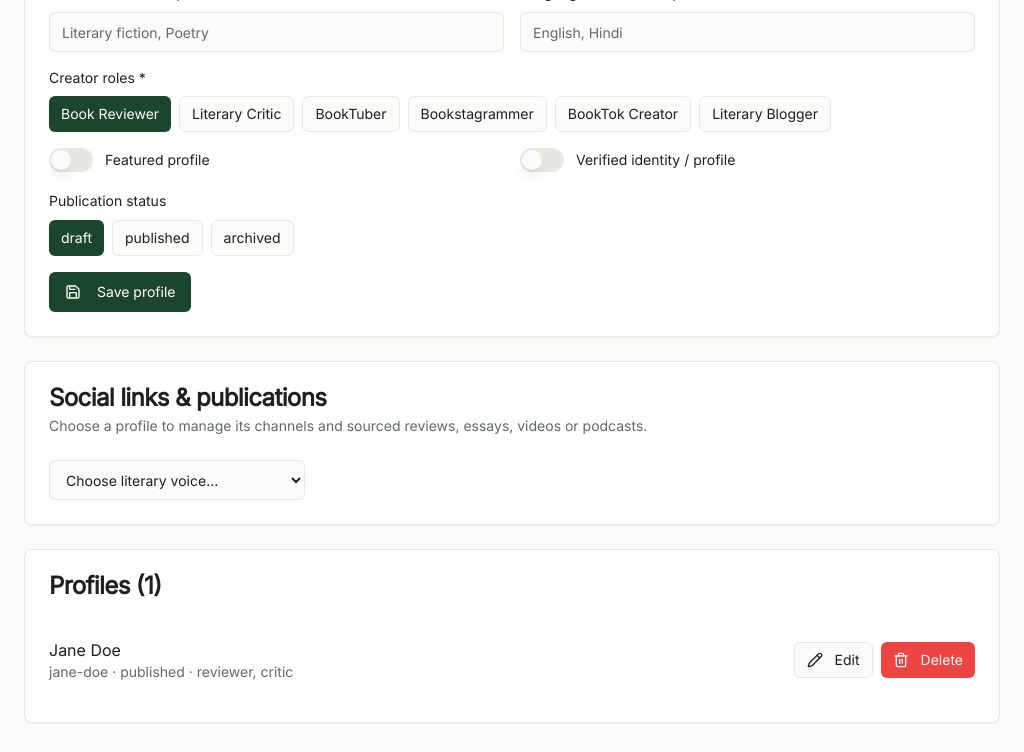
Test: AdminLiteraryCreators › populates creator profile into form for editing
(page scrolled)
Click the button "Edit".
click(833, 660)  # box [794,642,873,678]
(page scrolled)
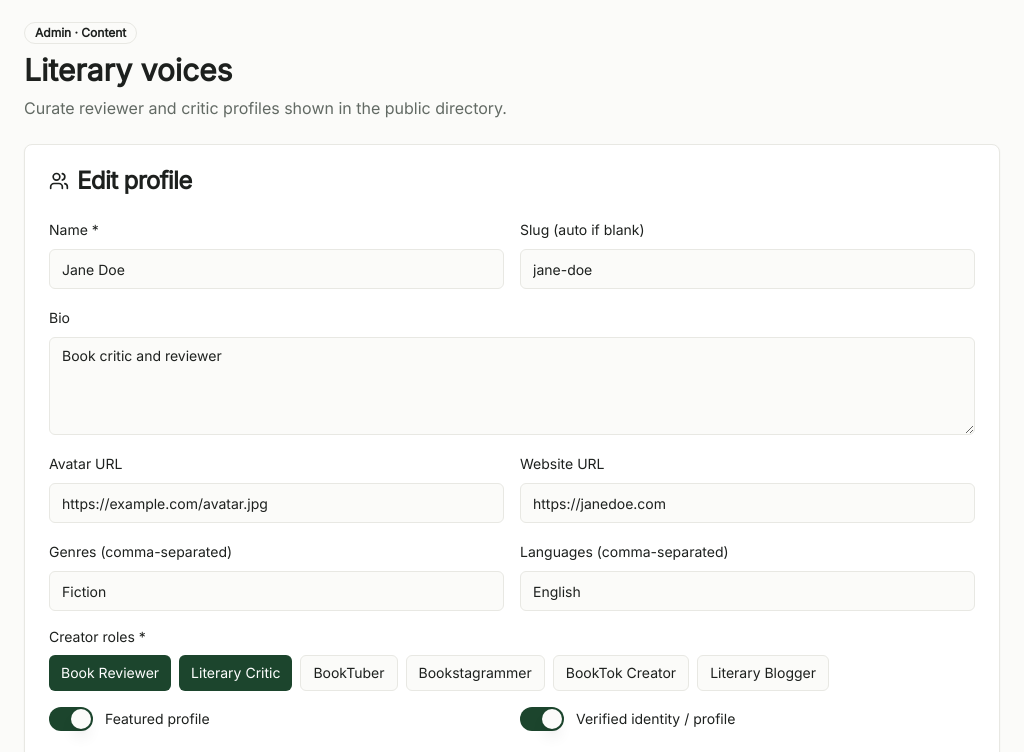
Expected: the field showing "Jane Doe" below "Name *" is shown, [49,249,504,289]
Expected: the field showing "jane-doe" below "Slug (auto if blank)" is shown, [520,249,975,289]
